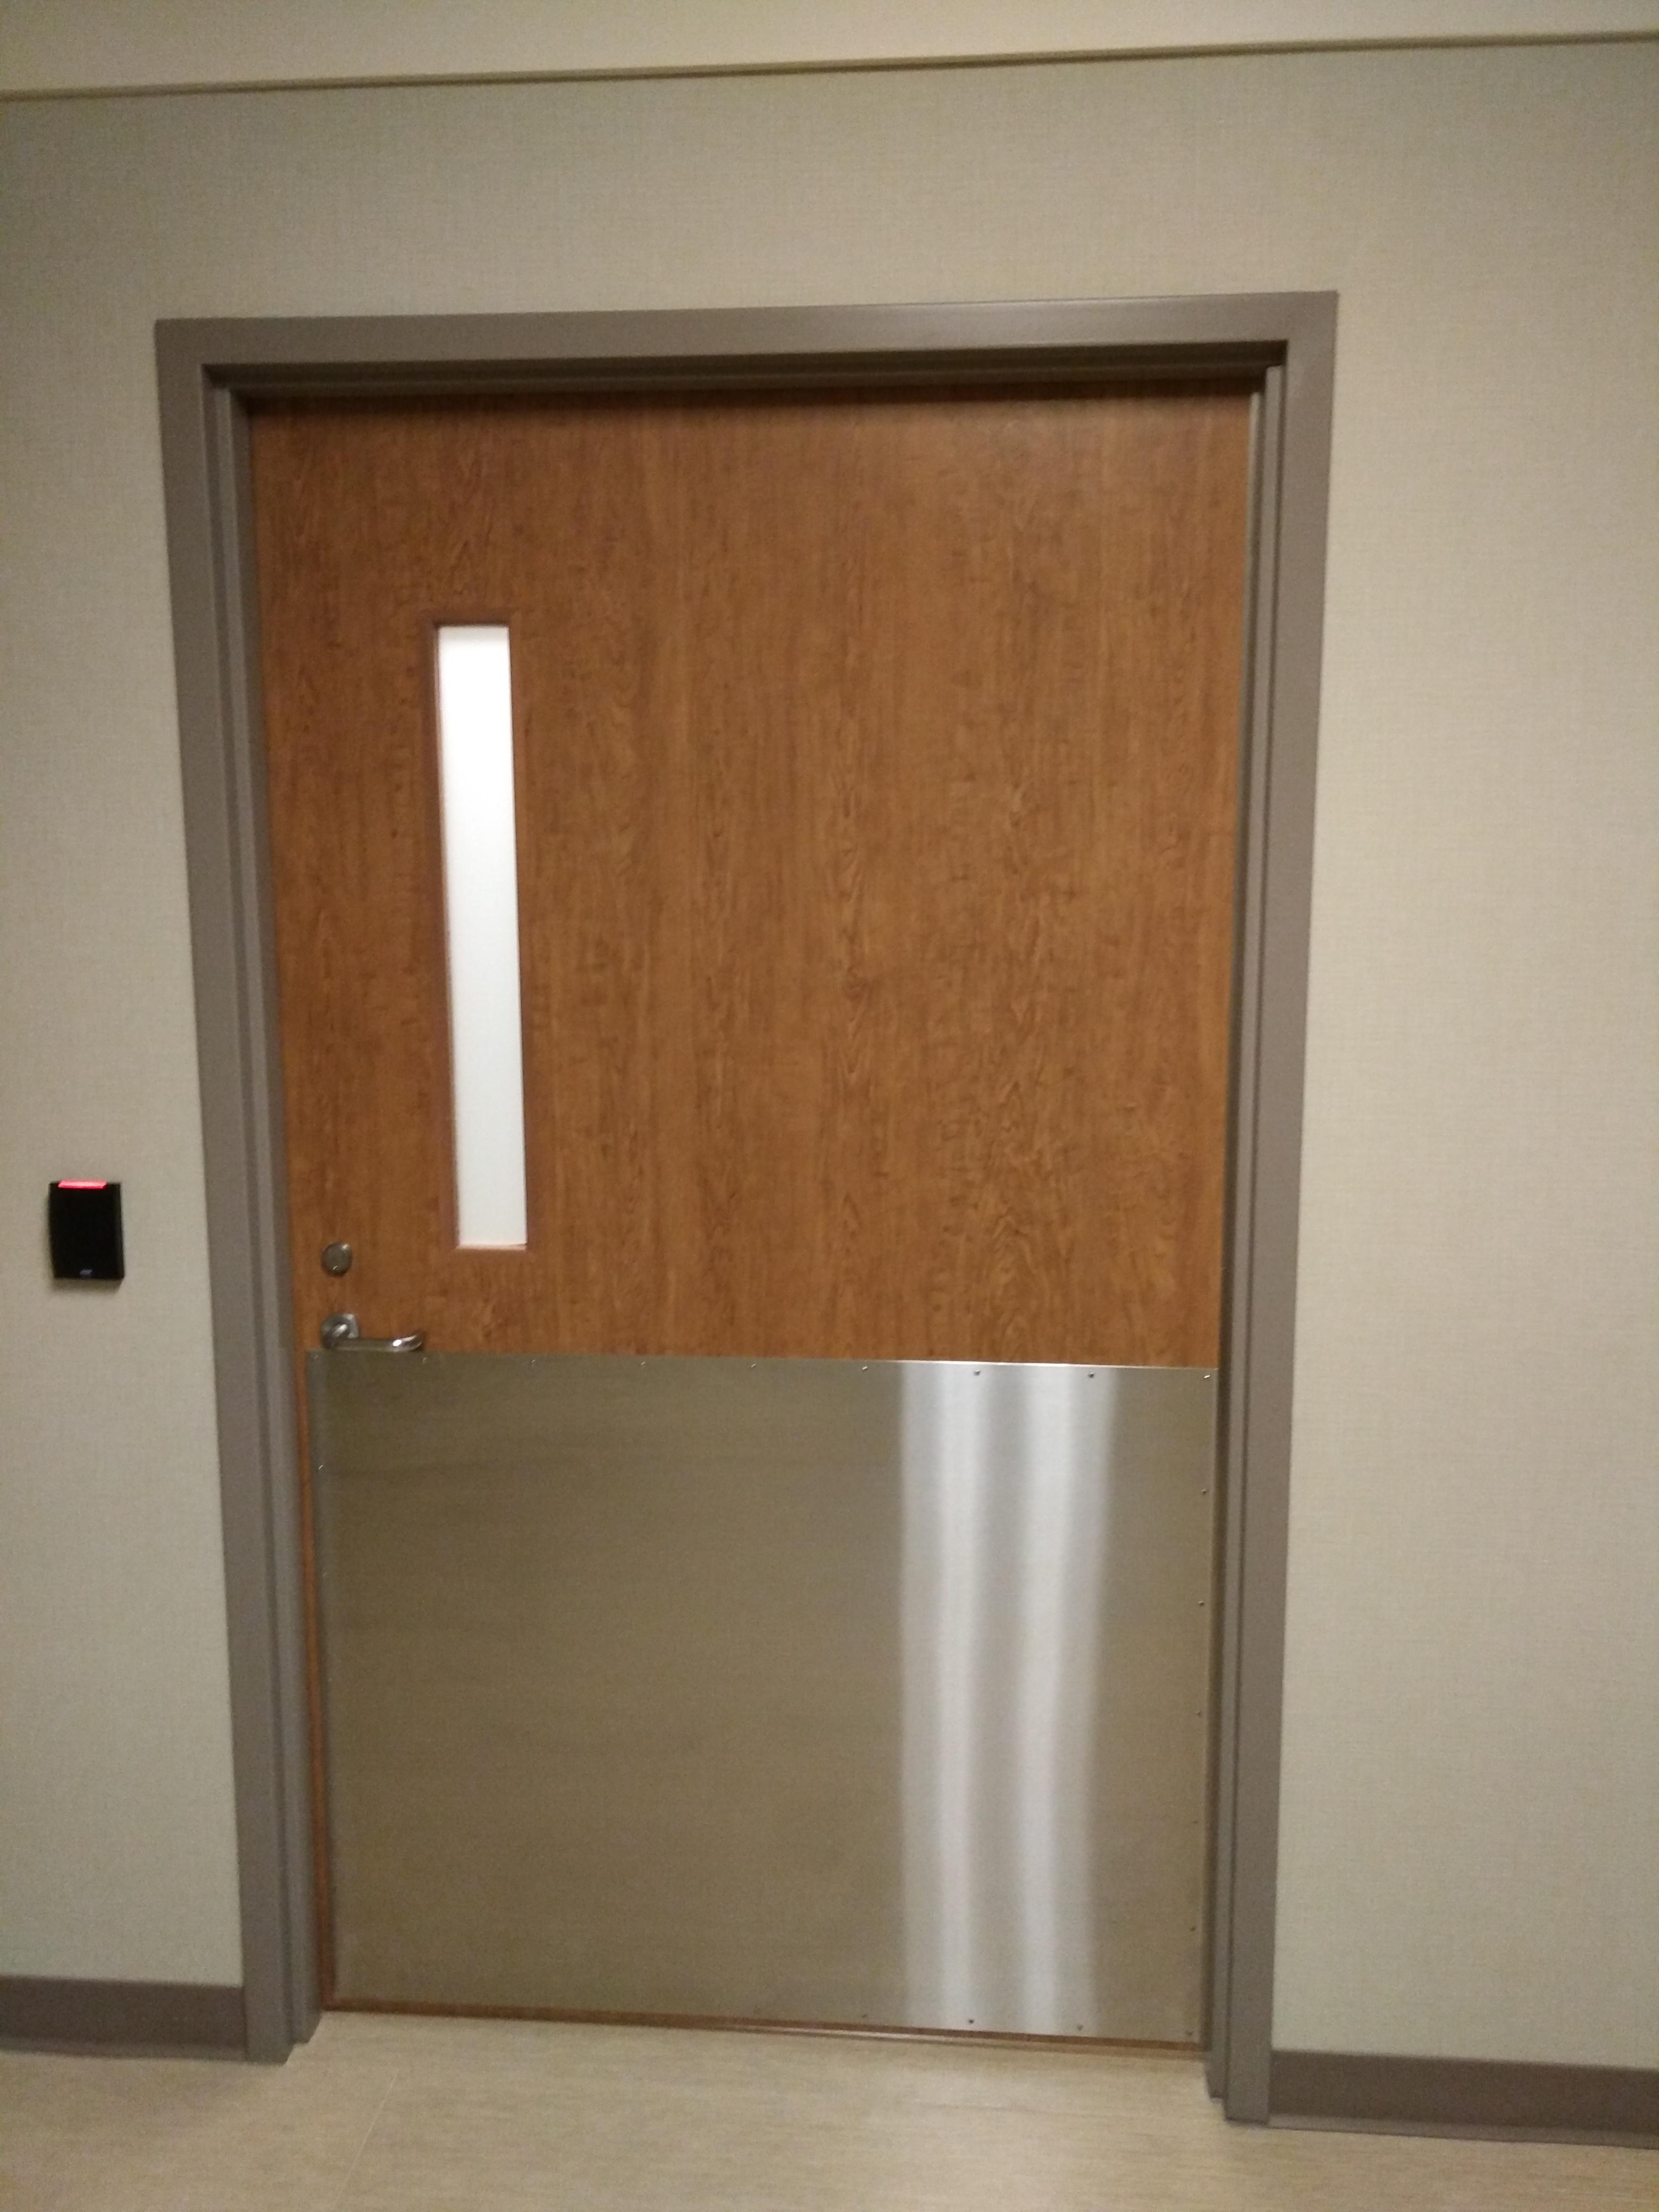door: (186, 331, 1248, 2062)
